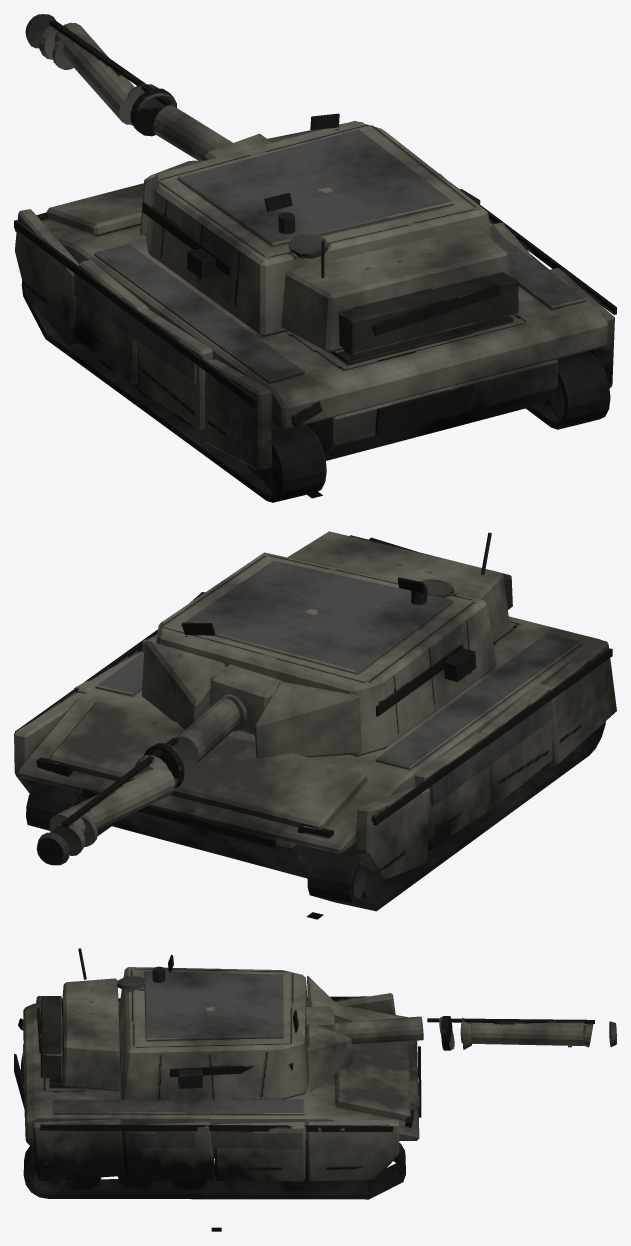
File: ord_lancer_wreck.fbx
3 renders of one model, top to bottom at view 1: azimuth 30°, elevation 25°; view 2: azimuth 150°, elevation 25°; view 3: azimuth 270°, elevation 25°, orthographic. The views are drawn at different scales.
Parts seen in each view (by area): view 1: base_bar, turret_bar, barrel_bar; view 2: base_bar, turret_bar, barrel_bar; view 3: base_bar, turret_bar, barrel_bar.
Boxes of the visible parts, <box> form: base_bar: <box>14,125,616,502</box>; turret_bar: <box>140,113,518,354</box>; barrel_bar: <box>25,14,271,160</box>; base_bar: <box>14,616,616,911</box>; turret_bar: <box>141,531,512,758</box>; barrel_bar: <box>36,664,282,865</box>; base_bar: <box>14,993,421,1199</box>; turret_bar: <box>37,948,353,1099</box>; barrel_bar: <box>305,1006,616,1050</box>.
Size of the model in its own units: 636 by 565 by 1230.
2 materials, 2 textured.
